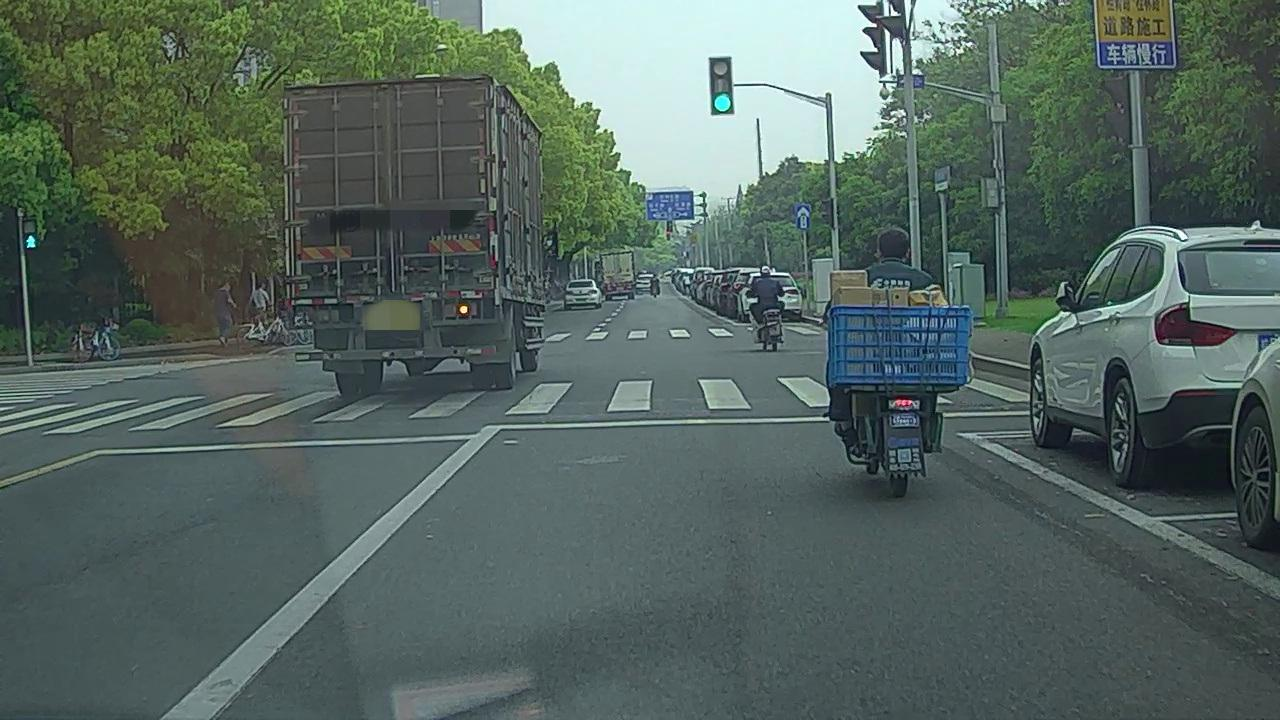traffic_light: (709, 59, 734, 116)
